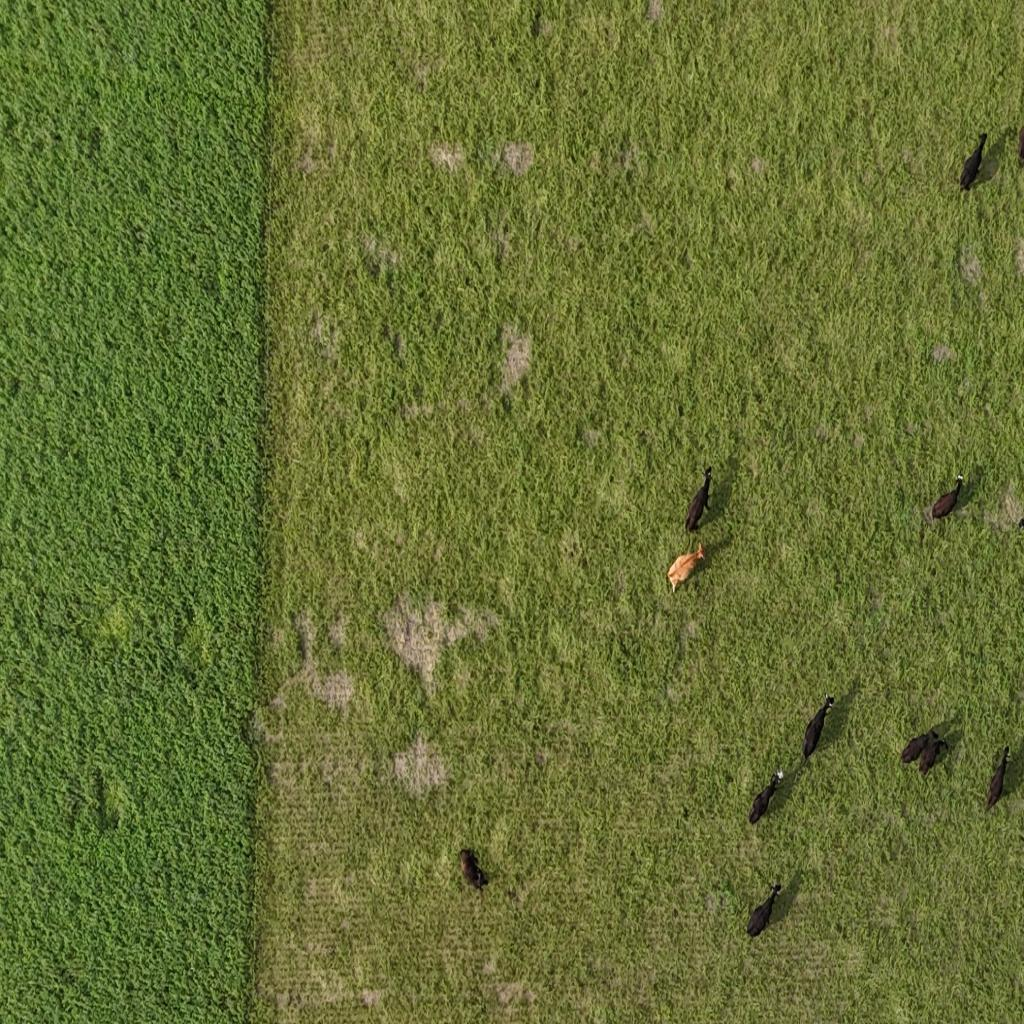cow: (744, 872, 785, 939), (658, 544, 713, 587), (684, 465, 714, 539), (748, 768, 784, 828), (928, 468, 966, 524), (804, 696, 837, 760), (957, 129, 989, 194), (456, 845, 496, 896), (980, 742, 1008, 814), (918, 736, 953, 784), (902, 728, 940, 760)
